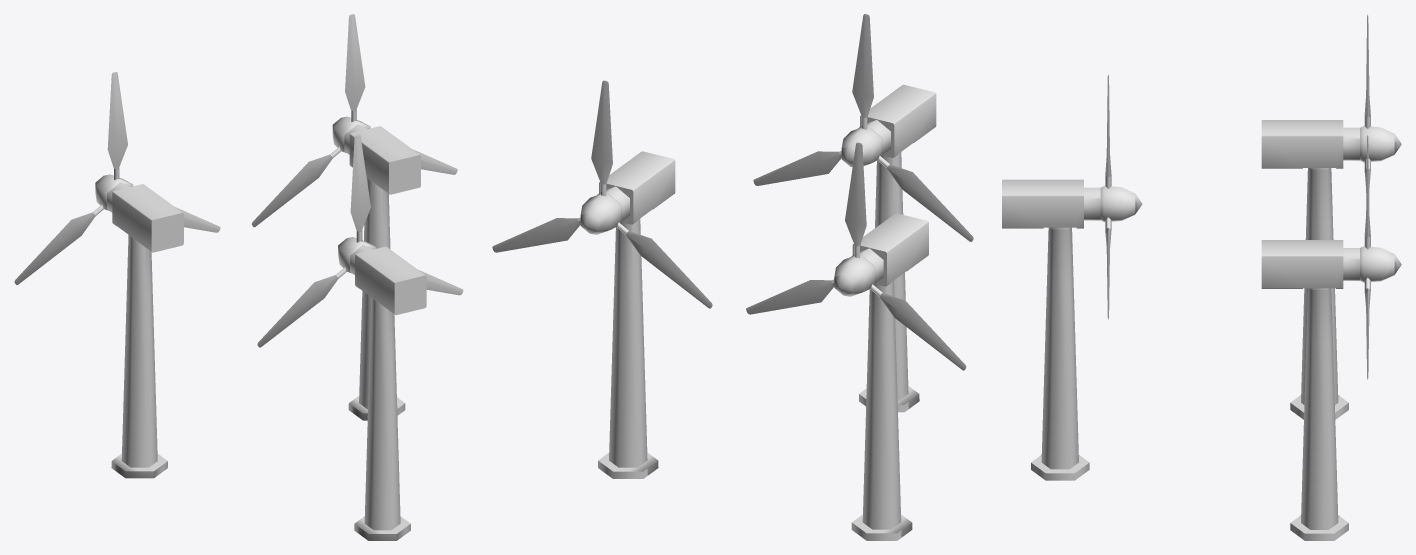
The model's file is WindFarm.FBX.
The picture shows the model from 3 angles, left to right: view 1: azimuth 30°, elevation 25°; view 2: azimuth 150°, elevation 25°; view 3: azimuth 270°, elevation 25°; orthographic projection. The views are drawn at different scales.
Parts seen in each view (by area): view 1: Cylinder028, Cylinder029, Cylinder027; view 2: Cylinder027, Cylinder028, Cylinder029; view 3: Cylinder029, Cylinder027, Cylinder028.
Part boxes in pixels (box(x1,y1,x2,y2)): Cylinder028: box(14, 72, 220, 478); Cylinder029: box(257, 134, 463, 540); Cylinder027: box(252, 14, 457, 420); Cylinder027: box(492, 80, 712, 478); Cylinder028: box(746, 142, 966, 540); Cylinder029: box(753, 14, 973, 412); Cylinder029: box(1002, 74, 1142, 480); Cylinder027: box(1261, 135, 1401, 540); Cylinder028: box(1261, 14, 1401, 419).
Bounding box in the file's own units: 66.36 × 54.28 × 49.87.
